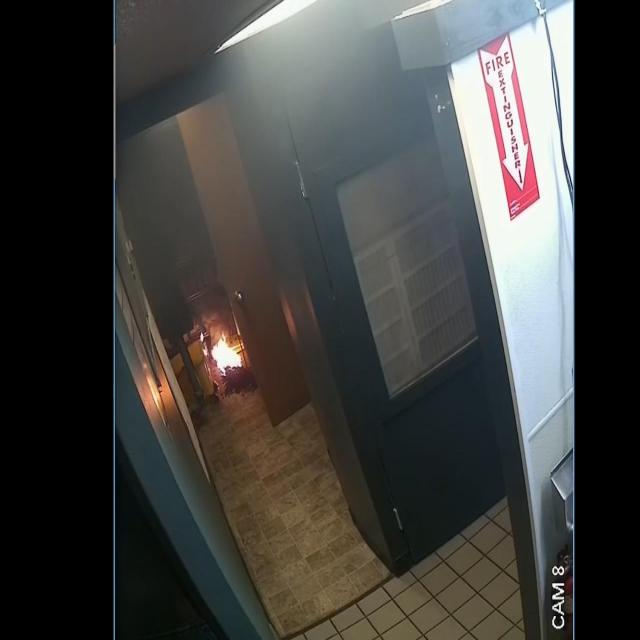fire: (211, 332, 242, 377)
